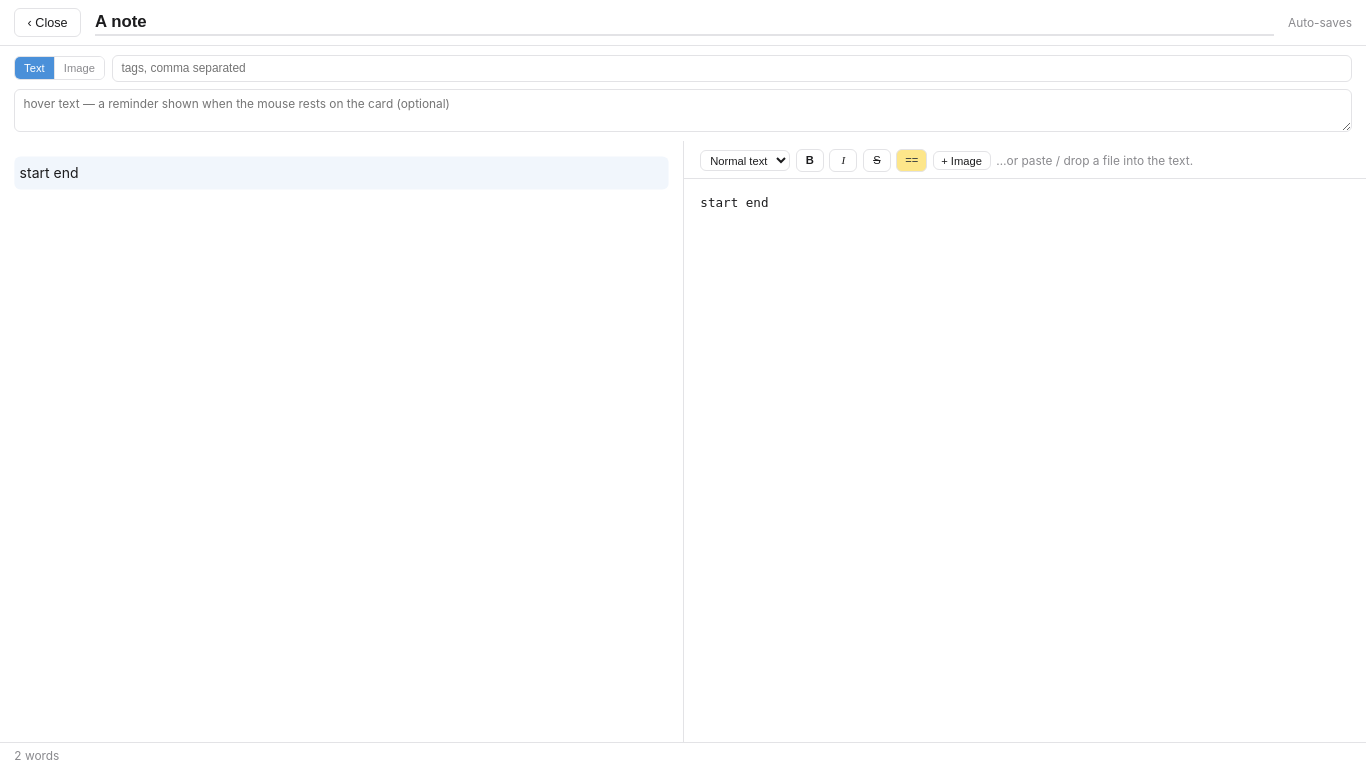
Test: inserting an asset › inserts at the caret rather than appending
The width and height of the screenshot is (1366, 768).
Expected: the text box with placeholder "Write in Markdown…" holds "start end", top-left (684, 179), bottom-right (1365, 742)
Click the button "+ Image" at (962, 161), box top-left (932, 151), bottom-right (991, 170)
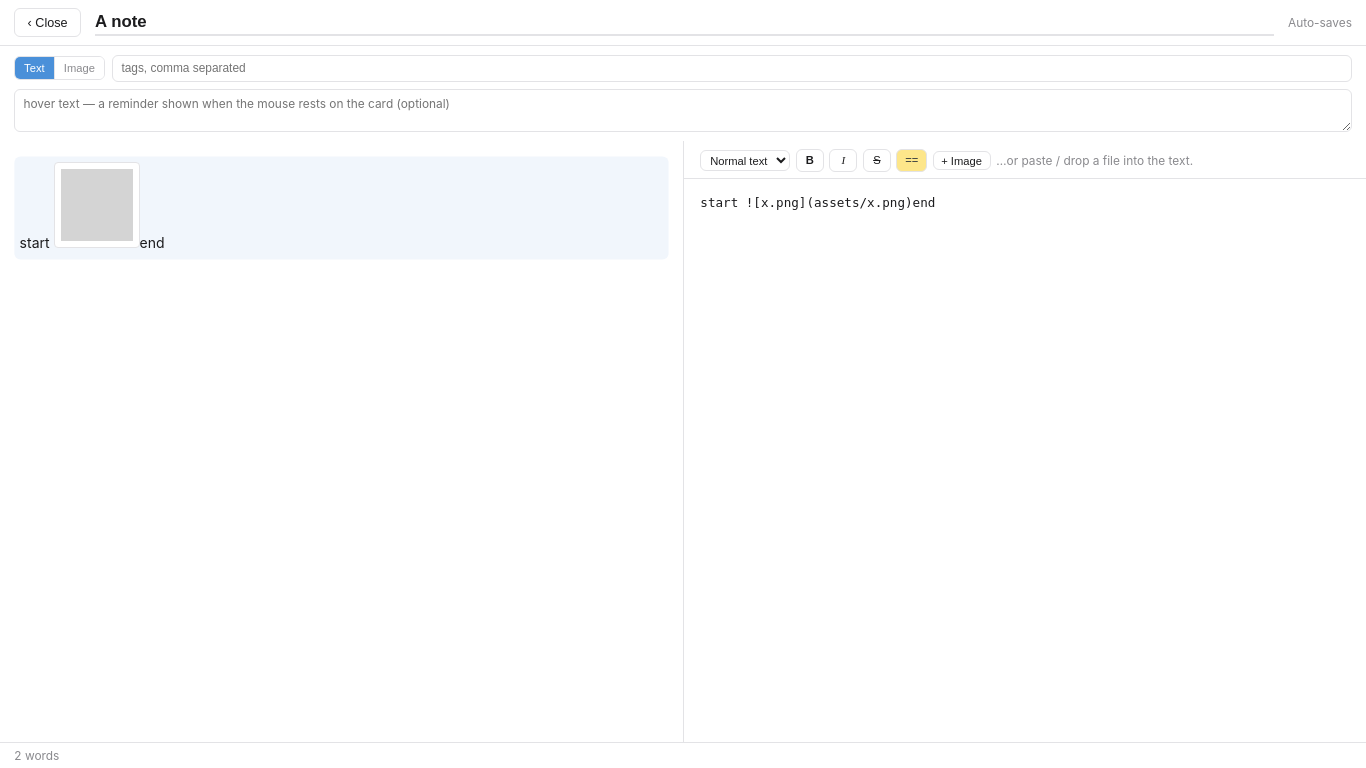
Expected: the text box with placeholder "Write in Markdown…" holds "start ![x.png](assets/x.png)end", top-left (684, 179), bottom-right (1365, 742)
